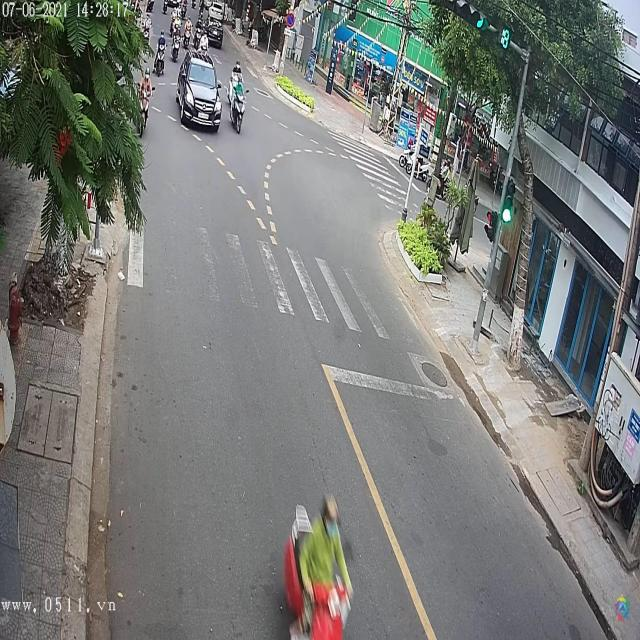car: (176, 51, 222, 133)
motorcycle: (135, 80, 156, 136), (229, 84, 248, 135), (154, 40, 167, 80), (172, 32, 181, 62)
